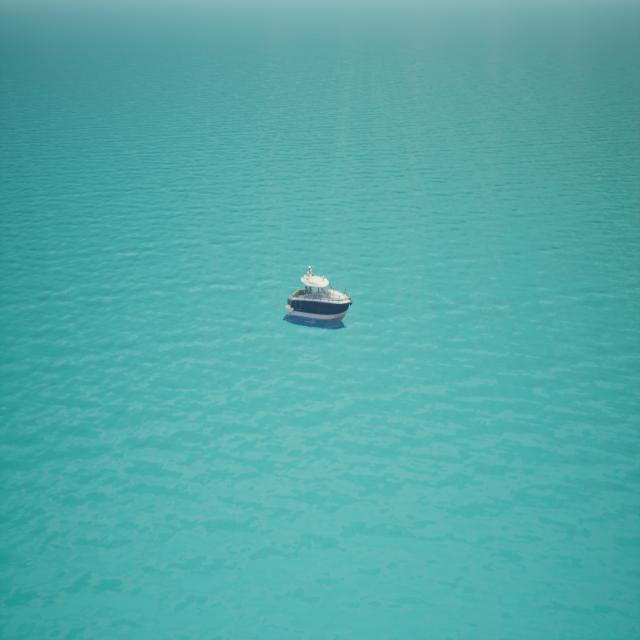ship: (281, 265, 352, 327)
